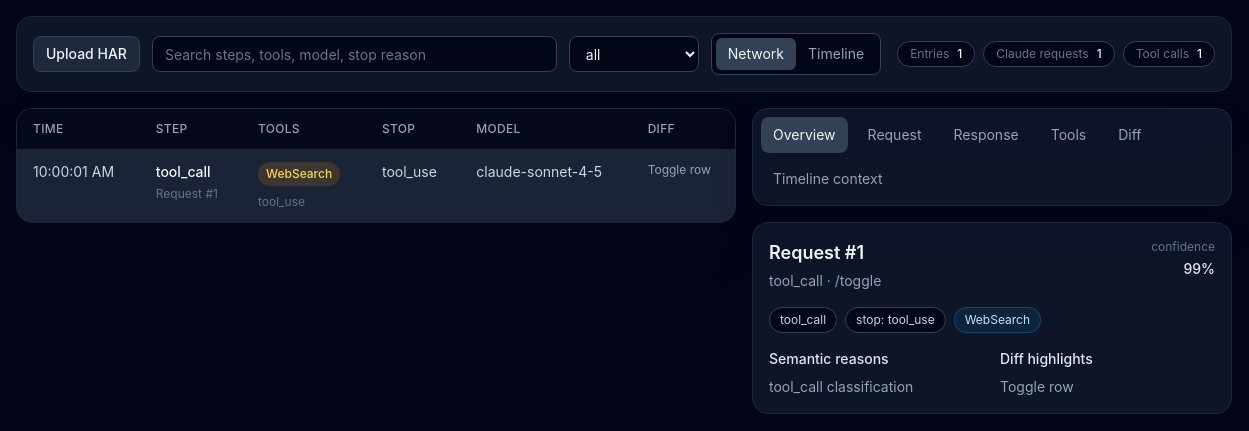
HomePage › maps toolbar pane toggles to ui store modes
The width and height of the screenshot is (1249, 431).
Click the button "timeline" at (836,54), box [796,38,876,70]
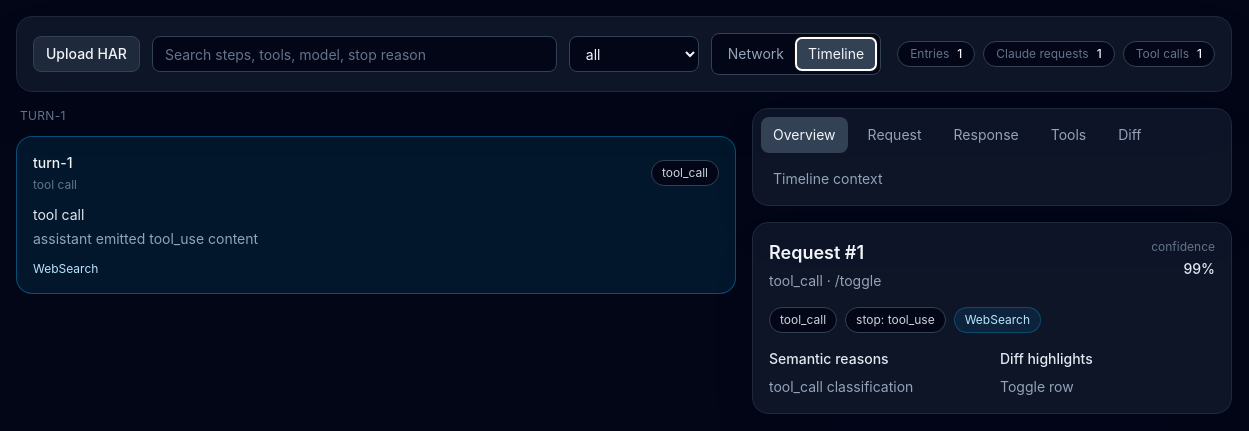
Expected: the button that starts with "turn-1" is shown, [16,136,736,294]
Click the button "network" at (756,54), box [716,38,796,70]
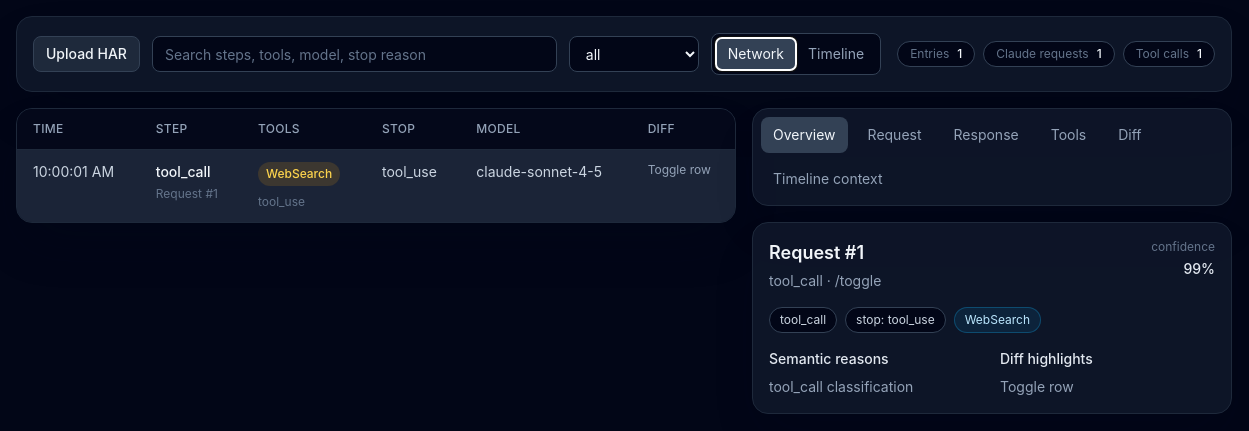
Expected: the column heading "Time" is shown, [17,109,140,150]
